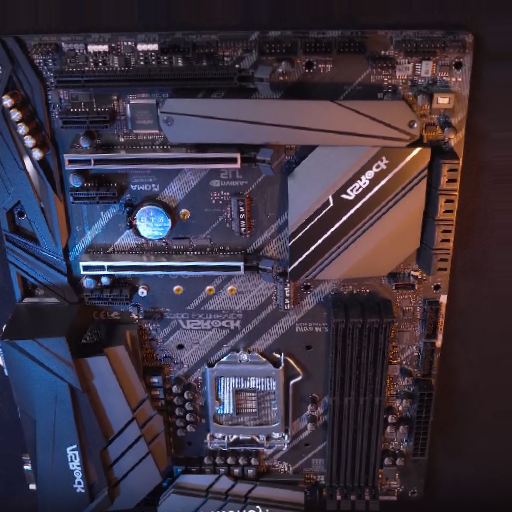CPU: (204, 350, 287, 443)
GPU: (65, 144, 276, 179), (78, 254, 278, 285), (47, 67, 260, 95)
MOTHERBOARD: (4, 26, 464, 507)
RAM: (325, 297, 394, 505)
SSD: (227, 191, 253, 237), (272, 281, 291, 314)
